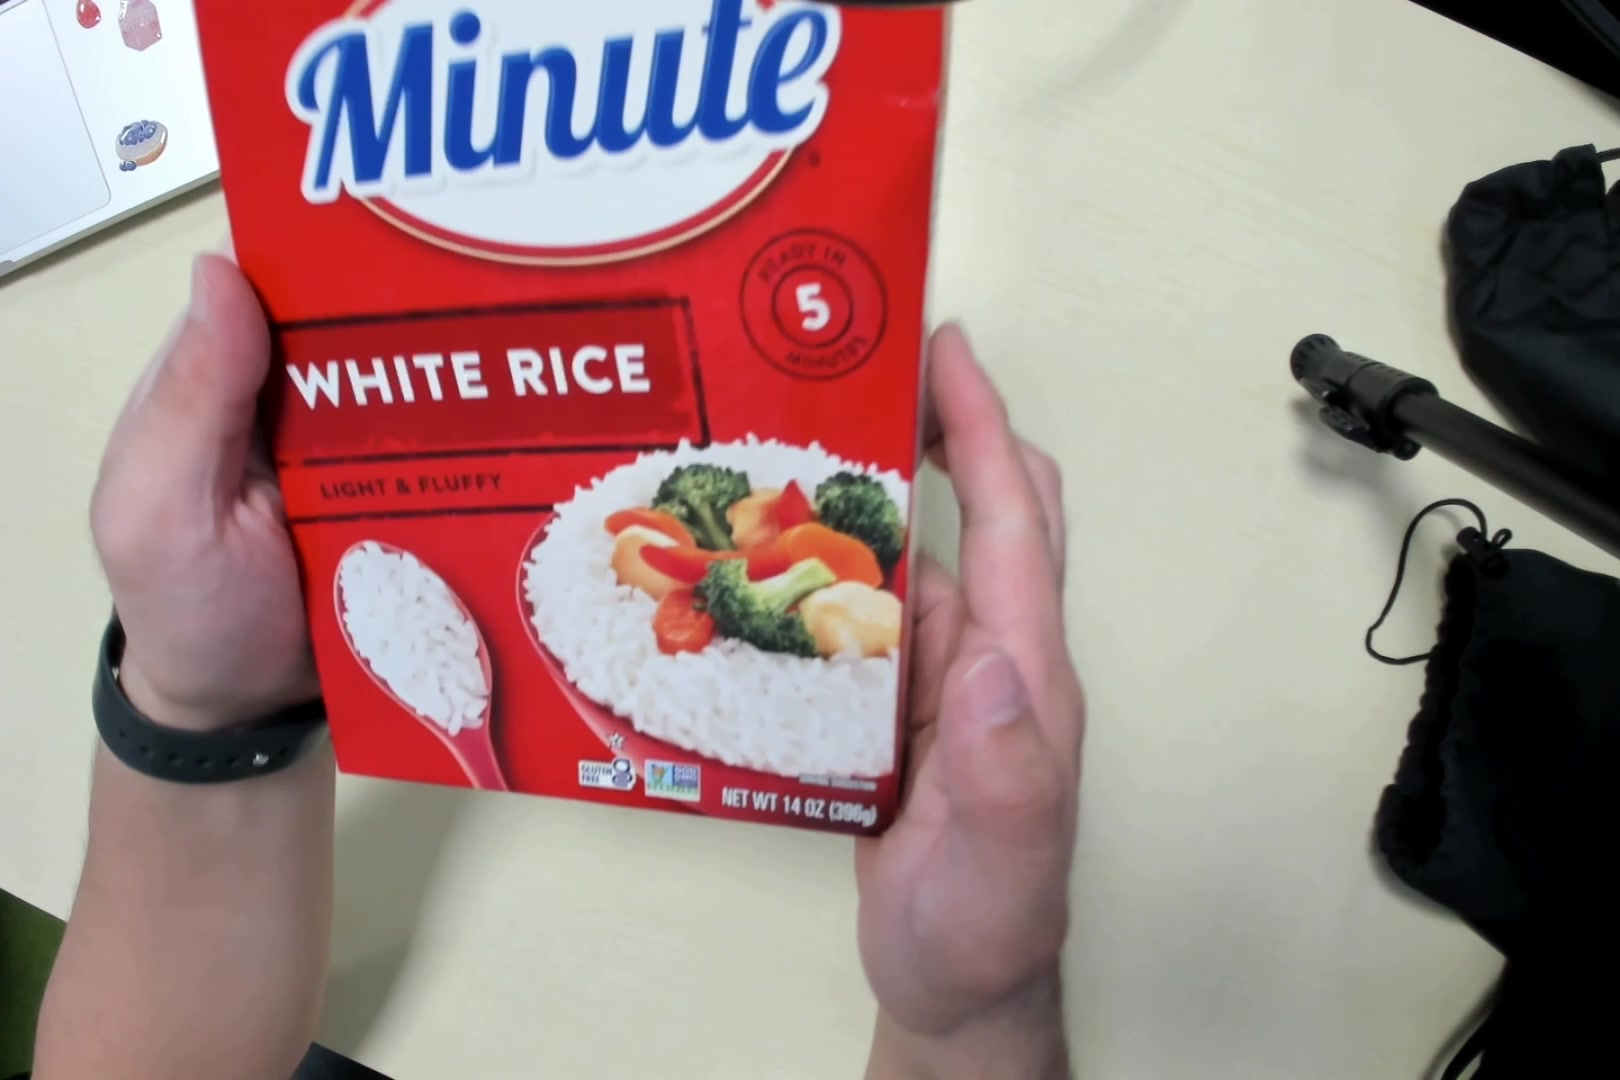Rice(White)_300-399g_NonHalal_NonHealthy: (196, 5, 933, 849)
